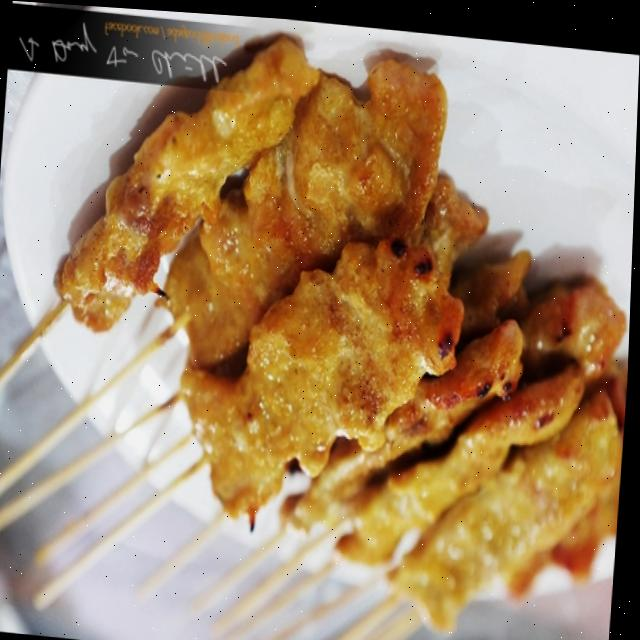牛肉菜式: (0, 32, 639, 640)
